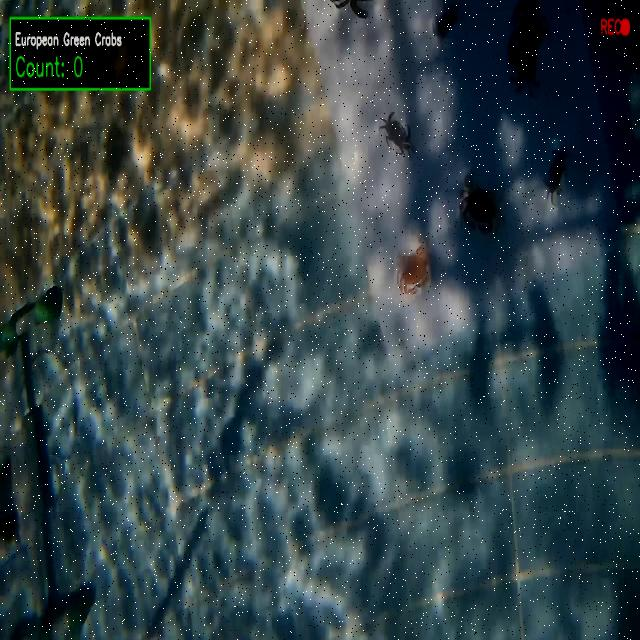European_Green_Crab: (373, 101, 421, 173), (539, 139, 575, 214), (330, 0, 371, 22)
